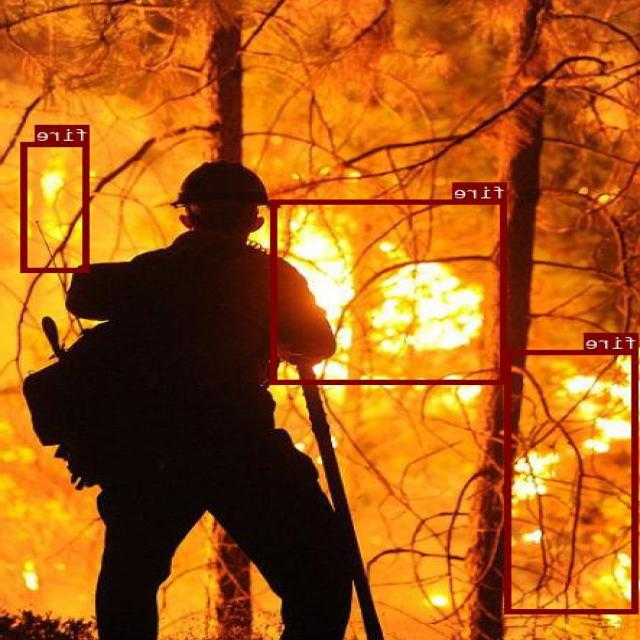fire: (272, 199, 508, 383), (507, 348, 639, 612), (22, 141, 90, 272)
